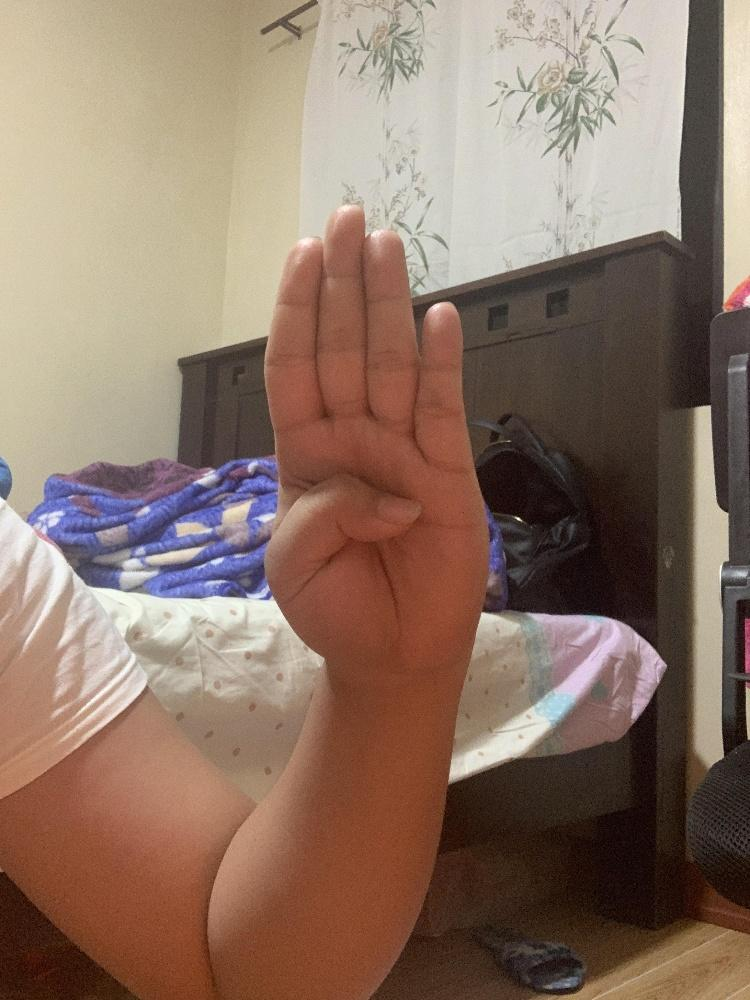b: (264, 203, 491, 668)
